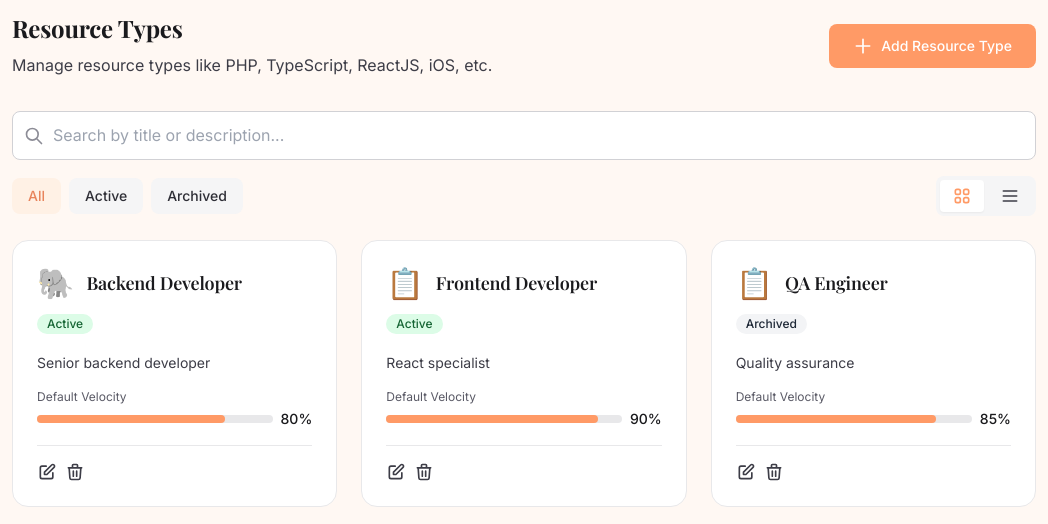
ResourcesManagement › Filter Functionality › should filter by Active status
This screenshot has width=1048, height=524.
Click the button "Active".
click(106, 196)  # box top-left (69, 178), bottom-right (143, 214)
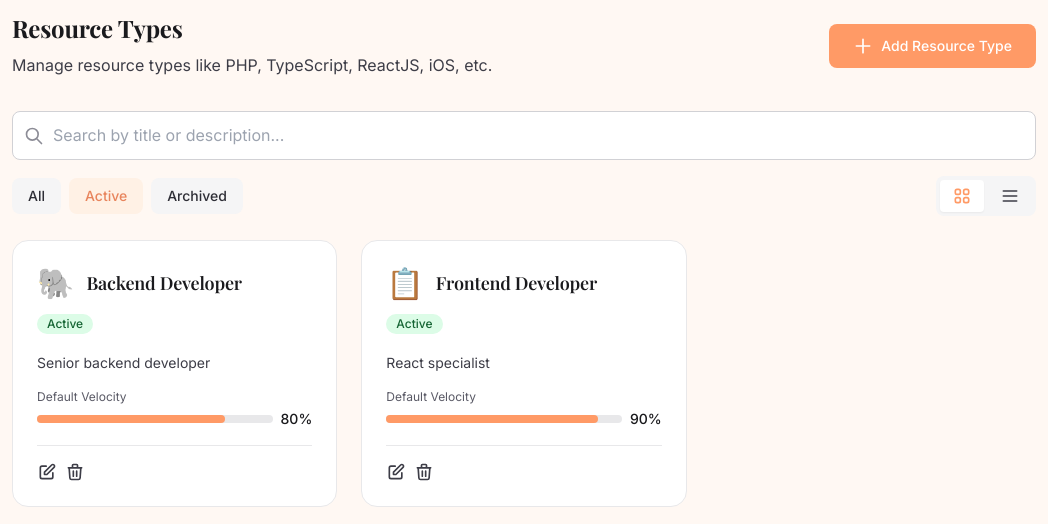
Expected: the heading "Backend Developer" is shown, top-left (86, 269), bottom-right (242, 297)
Expected: the heading "QA Engineer" is gone
